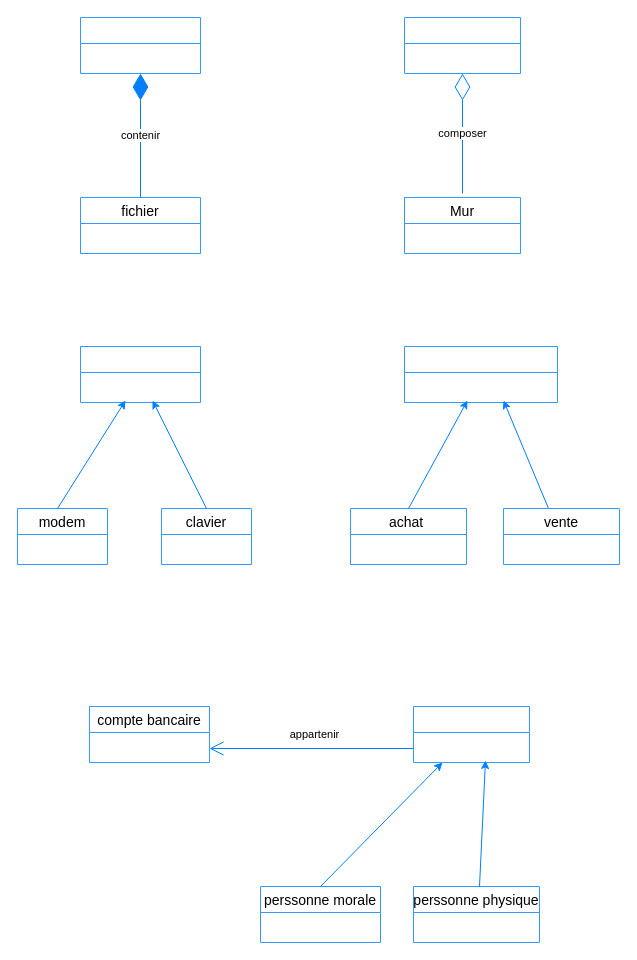
Some shapes in this 637 by 960 pixel diagram are drawn without their labels. Each missing label, with the centre of its shape:
client: the point at 471,734
peripherique: the point at 140,374
piece: the point at 462,45
repertoire: the point at 140,45
transaction bourssiere: the point at 481,374
